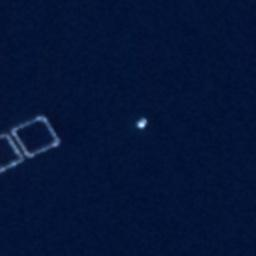square_solid: (8, 113, 62, 162), (1, 126, 27, 178)
